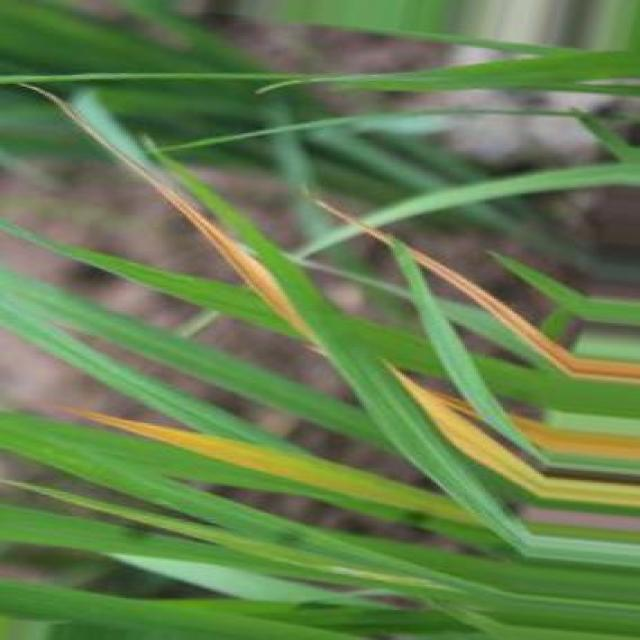Rice Tungro: (31, 88, 315, 344), (71, 409, 475, 524), (390, 368, 638, 507), (407, 247, 639, 383), (511, 417, 638, 459), (315, 200, 390, 244)
